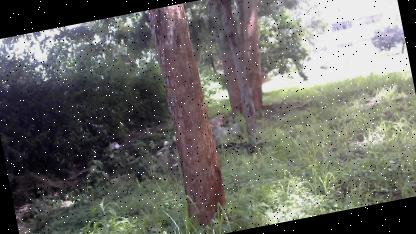tree: (140, 0, 240, 233), (212, 0, 267, 150)
